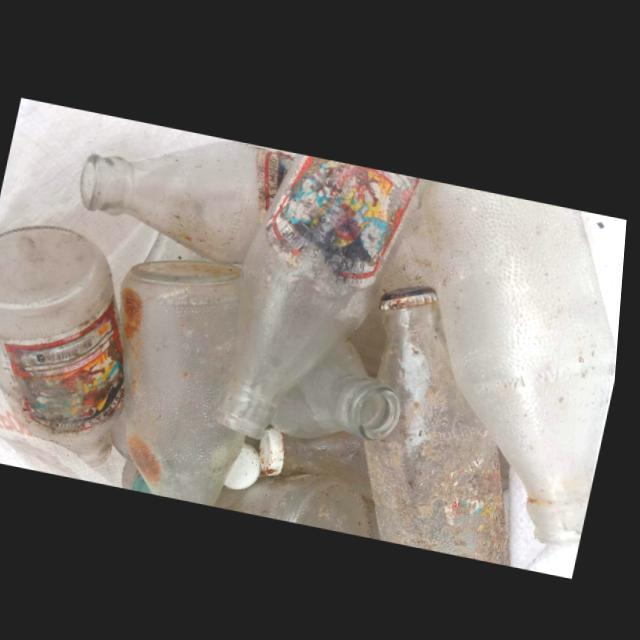glass: (423, 175, 621, 536), (221, 150, 431, 436), (370, 280, 518, 560), (0, 225, 131, 467), (124, 259, 252, 505), (82, 139, 292, 262), (277, 336, 407, 436), (220, 469, 381, 535)
